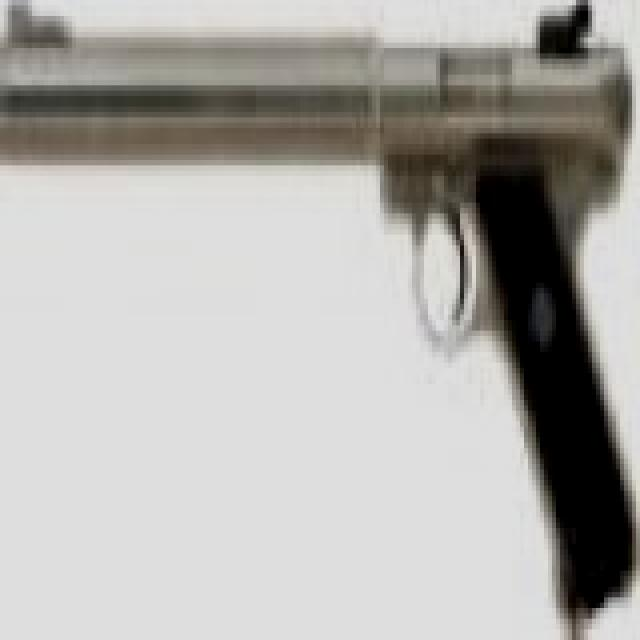pistol: (8, 0, 640, 619)
